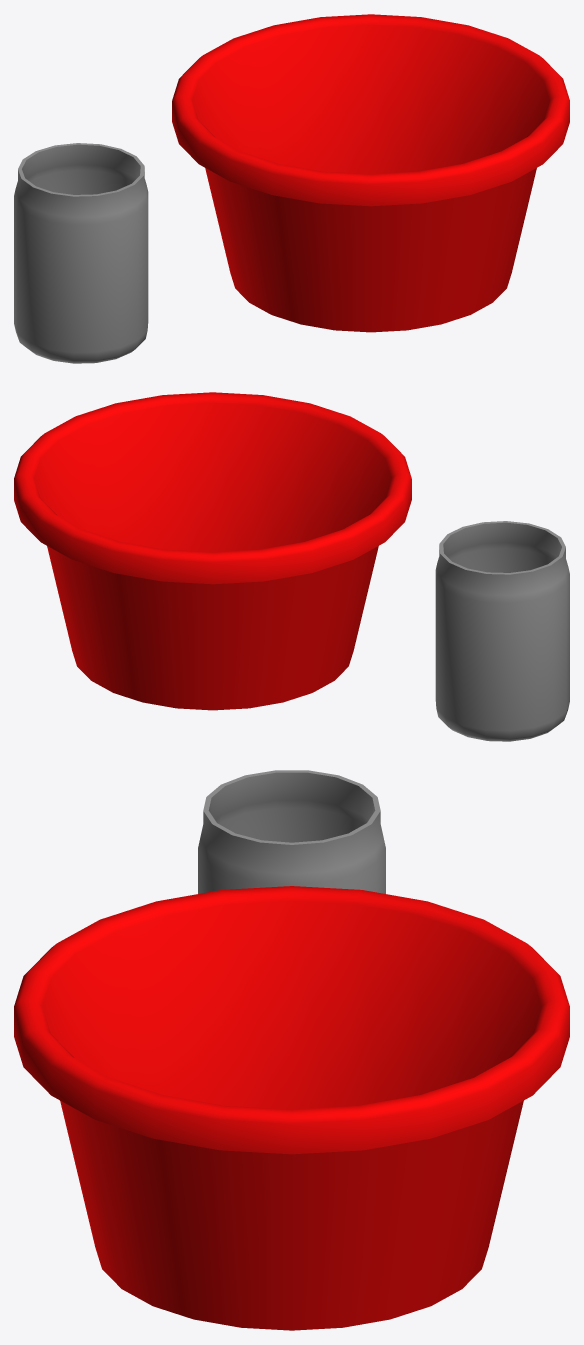
File: pot_betadine_v2.FBX
The picture shows the model from 3 angles, top to bottom: view 1: azimuth 30°, elevation 25°; view 2: azimuth 150°, elevation 25°; view 3: azimuth 270°, elevation 25°; orthographic projection. The views are drawn at different scales.
Visible parts, largest first — view 1: bassine, pot; view 2: bassine, pot; view 3: bassine, pot.
Part boxes in pixels (<box>): bassine: <box>172,14,569,332</box>; pot: <box>14,143,148,363</box>; bassine: <box>14,392,411,710</box>; pot: <box>435,521,569,741</box>; bassine: <box>14,886,569,1330</box>; pot: <box>198,770,385,893</box>.
Bounding box in the file's own units: 9.95 × 3.23 × 6.6.
